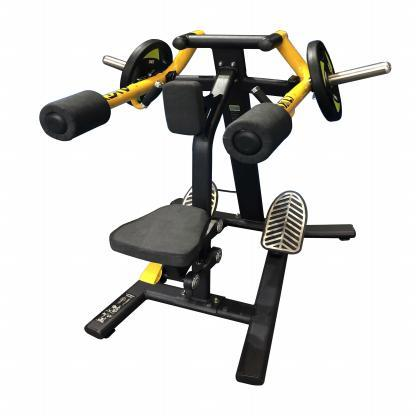lateral raises machine: (39, 27, 389, 384)
